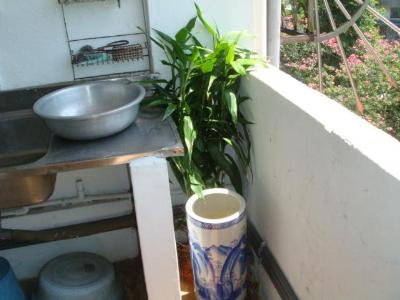bowl: (32, 80, 147, 141), (29, 249, 124, 300)
bucket: (185, 187, 250, 300)
